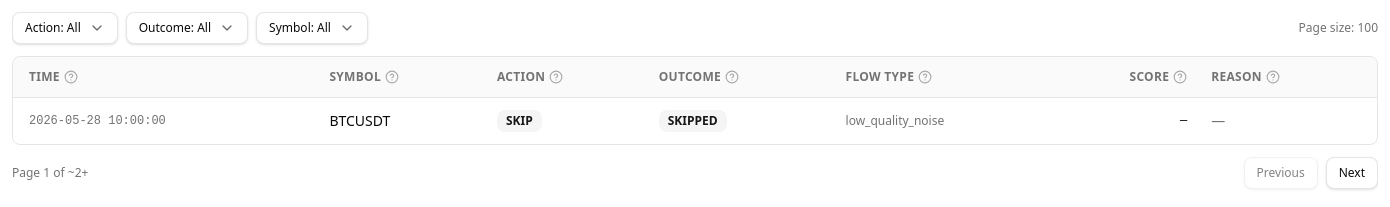
Test: DecisionsFeed — pagination controls › clicking Previous after Next brings back Page 1
Click the button "Next" at [1352, 173], box [1326,157,1378,189]
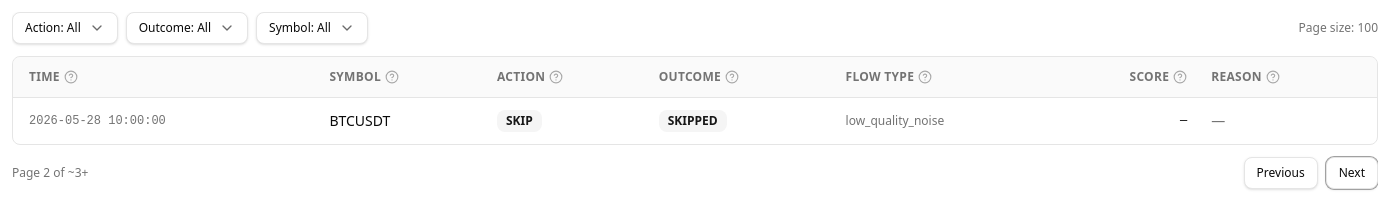
Expected: the text "Page 2 of ~3+" is shown, [12,165,88,181]
Click the button "Previous" at [1281, 173], box [1244,157,1318,189]
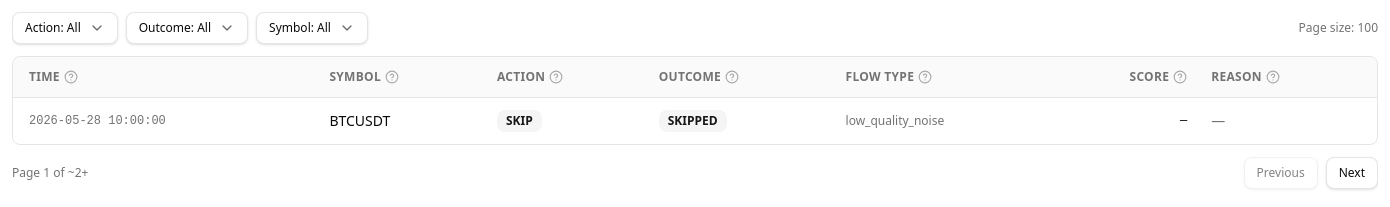
Expected: the text "Page 1 of ~2+" is shown, [12,165,88,181]
